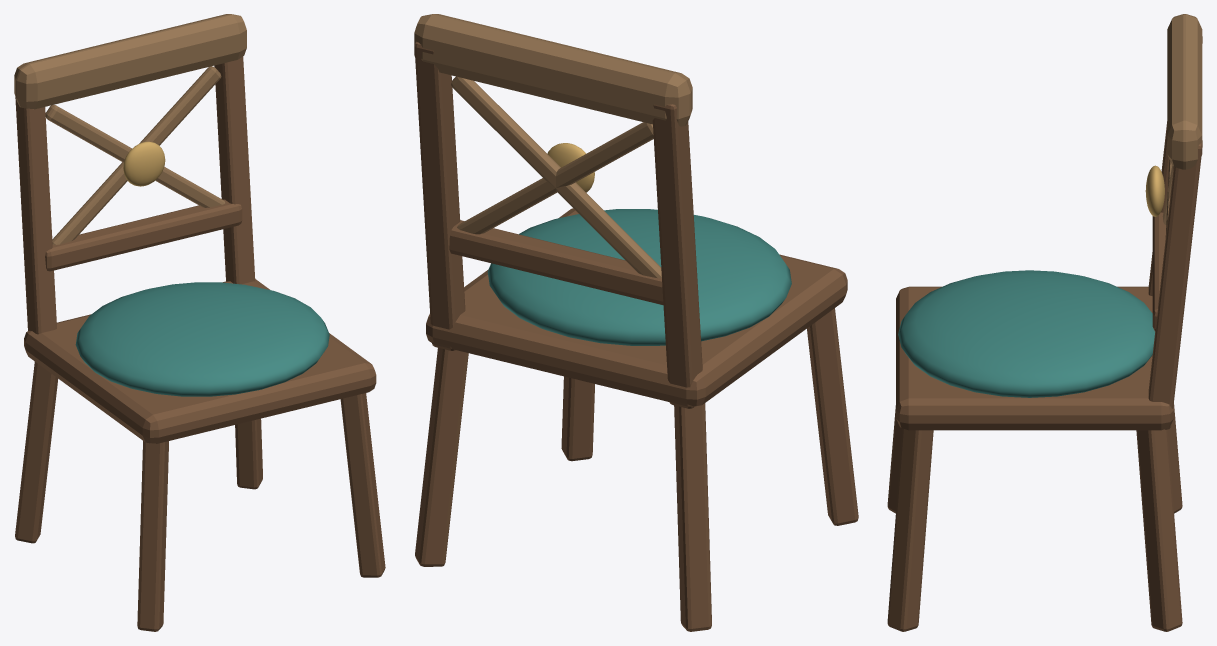
File: period-chair.glb
3 renders of one model, left to right at view 1: azimuth 30°, elevation 25°; view 2: azimuth 150°, elevation 25°; view 3: azimuth 270°, elevation 25°, orthographic. The views are drawn at different scales.
Visible parts, largest first — view 1: period-chair__Visual_matte, period-chair__Visual_metal; view 2: period-chair__Visual_matte, period-chair__Visual_metal; view 3: period-chair__Visual_matte, period-chair__Visual_metal.
Part boxes in pixels (x1,y1,x2,y2): period-chair__Visual_matte: (14, 14, 385, 631); period-chair__Visual_metal: (123, 141, 165, 186); period-chair__Visual_matte: (414, 14, 858, 631); period-chair__Visual_metal: (547, 143, 594, 192); period-chair__Visual_matte: (887, 14, 1202, 631); period-chair__Visual_metal: (1145, 165, 1164, 216).
Bounding box in the file's own units: 0.5745 × 1.04 × 0.5889.
